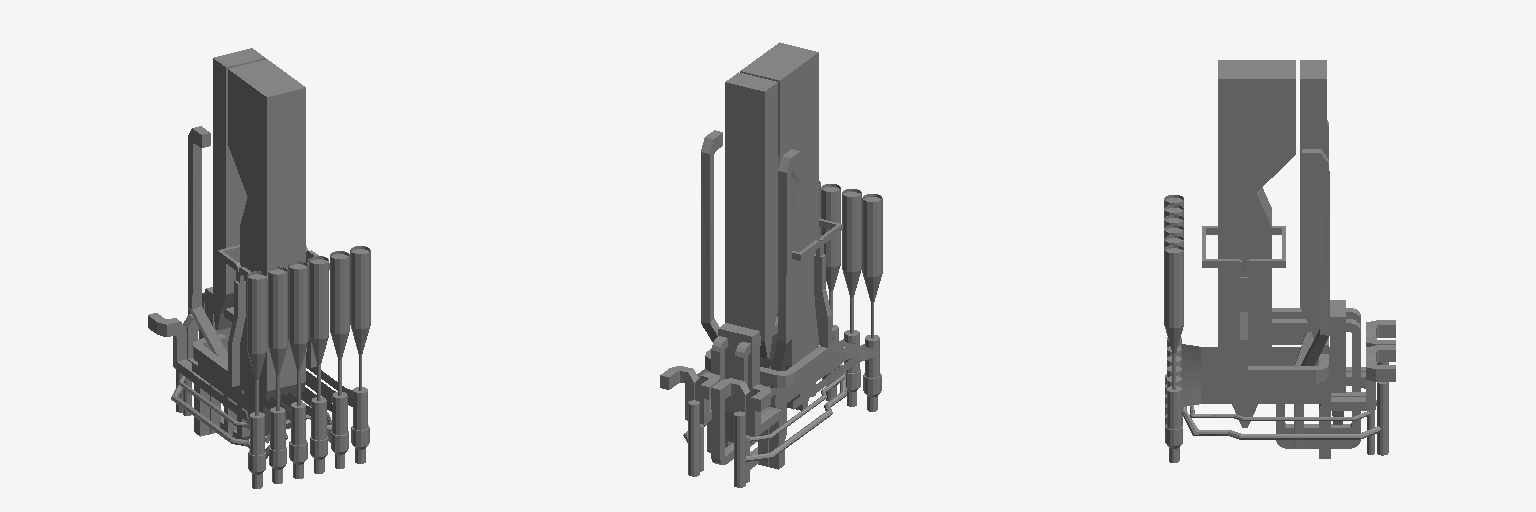
File: boiler_ET.obj
3 renders of one model, left to right at view 1: azimuth 30°, elevation 25°; view 2: azimuth 150°, elevation 25°; view 3: azimuth 270°, elevation 25°, orthographic.
Parts seen in each view (by area): view 1: boiler, boiler02, pipe_A; view 2: boiler, boiler02, pipe_A; view 3: boiler02, boiler, pipe_A.
Part boxes in pixels (x1,y1,x2,y2): boiler: (148, 126, 370, 488); boiler02: (213, 48, 305, 434); pipe_A: (181, 246, 370, 455); boiler: (660, 130, 882, 487); boiler02: (725, 42, 818, 410); pipe_A: (697, 181, 882, 409); boiler02: (1218, 60, 1326, 427); boiler: (1164, 120, 1395, 462); pipe_A: (1164, 195, 1330, 429).
Size of the model in its own units: 441 by 1296 by 732.